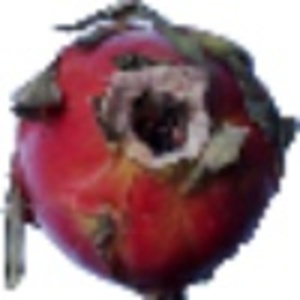pitaia: (1, 1, 300, 300)
